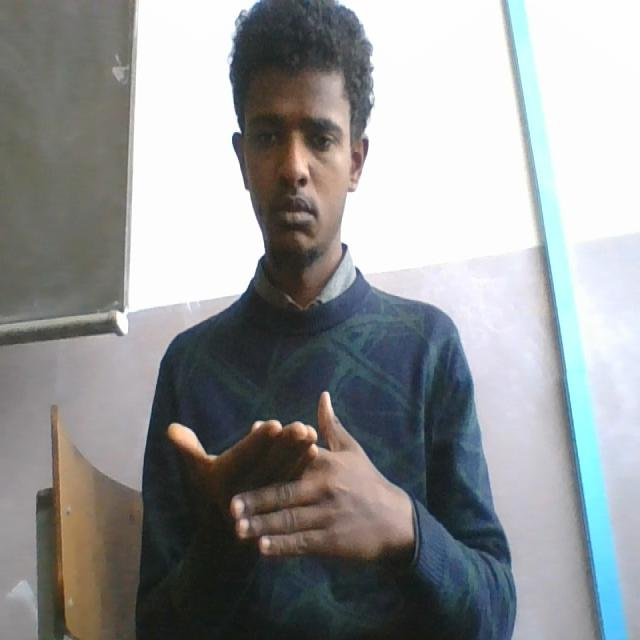sga: (166, 385, 411, 564)
